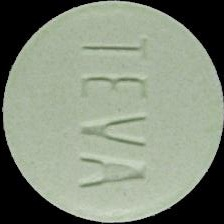76237-285: (0, 0, 224, 224)
